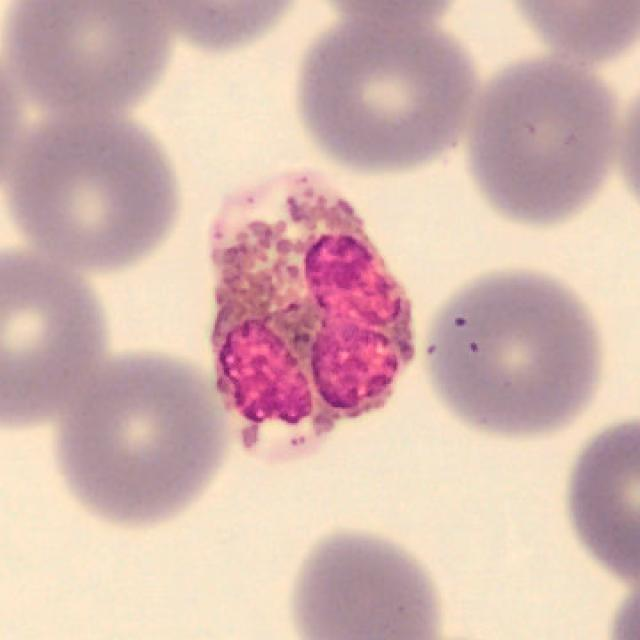Eosinofilo: (208, 171, 416, 464)
